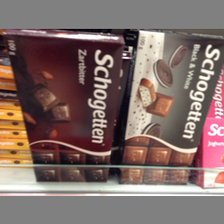chocolate: (3, 30, 124, 181), (120, 30, 224, 184)
